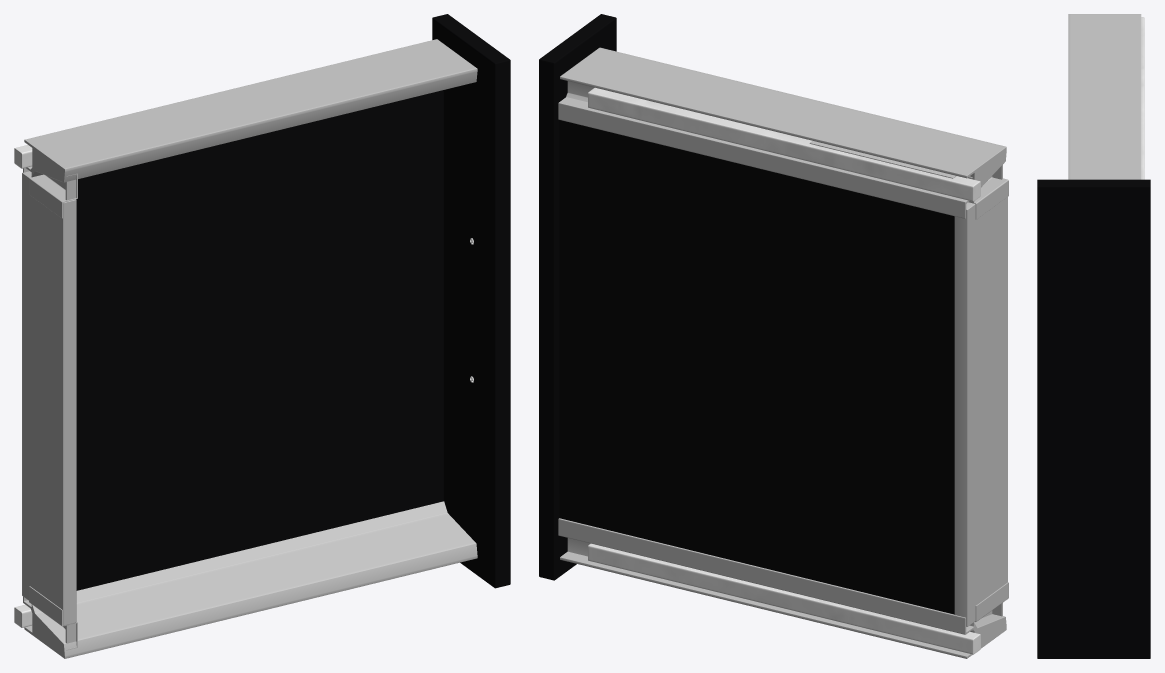
The model's file is Kitchen09Drawer01.obj.
3 views of the same model, side by side, from view 1: azimuth 30°, elevation 25°; view 2: azimuth 150°, elevation 25°; view 3: azimuth 270°, elevation 25° (orthographic). The views are drawn at different scales.
Parts seen in each view (by area): view 1: Kitchen09Drawer01; view 2: Kitchen09Drawer01; view 3: Kitchen09Drawer01.
Part boxes in pixels (bbox=[...]): Kitchen09Drawer01: bbox=[14, 14, 510, 658]; Kitchen09Drawer01: bbox=[539, 14, 1008, 658]; Kitchen09Drawer01: bbox=[1037, 14, 1150, 658].
Bounding box in the file's own units: 0.5199 × 0.5969 × 0.13.
4 materials, 1 textured.
